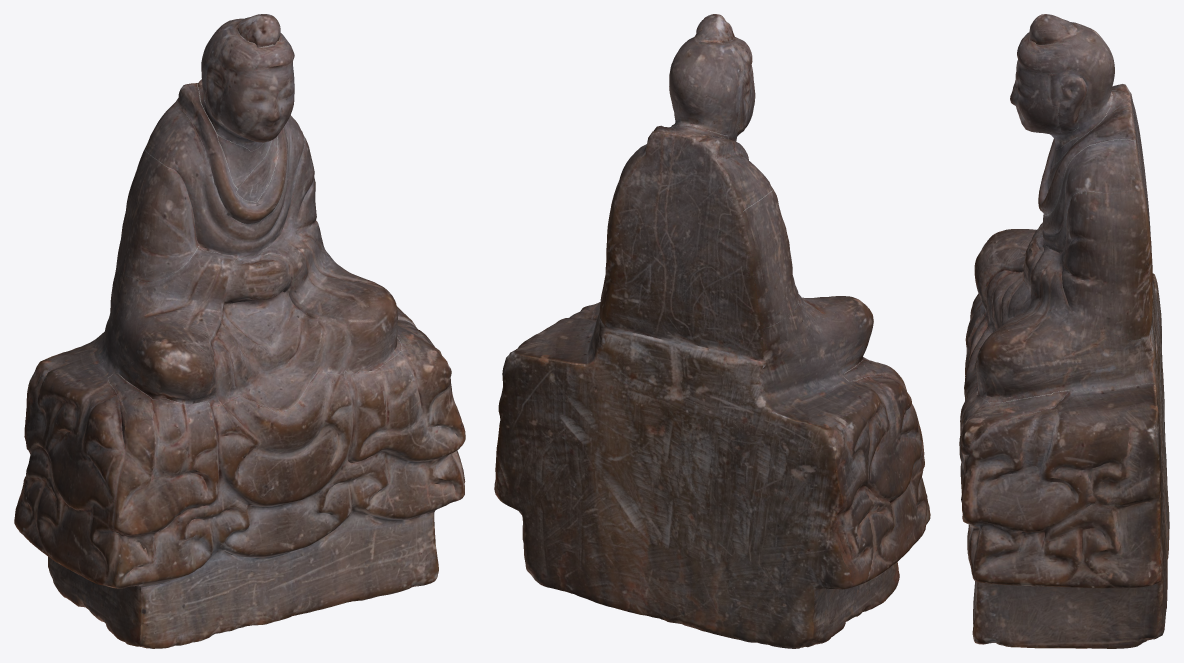
File: buddha-stone.glb
3 renders of one model, left to right at view 1: azimuth 30°, elevation 25°; view 2: azimuth 150°, elevation 25°; view 3: azimuth 270°, elevation 25°, orthographic. The views are drawn at different scales.
Visible parts, largest first — view 1: seated_buddha; view 2: seated_buddha; view 3: seated_buddha.
Boxes of the visible parts, x1,y1,x2,y2 form: seated_buddha: (14, 14, 465, 648); seated_buddha: (494, 14, 930, 648); seated_buddha: (959, 14, 1169, 648).
Bounding box in the file's own units: 92.26 × 134 × 45.04.
Materials: 1 (1 with a texture image).
